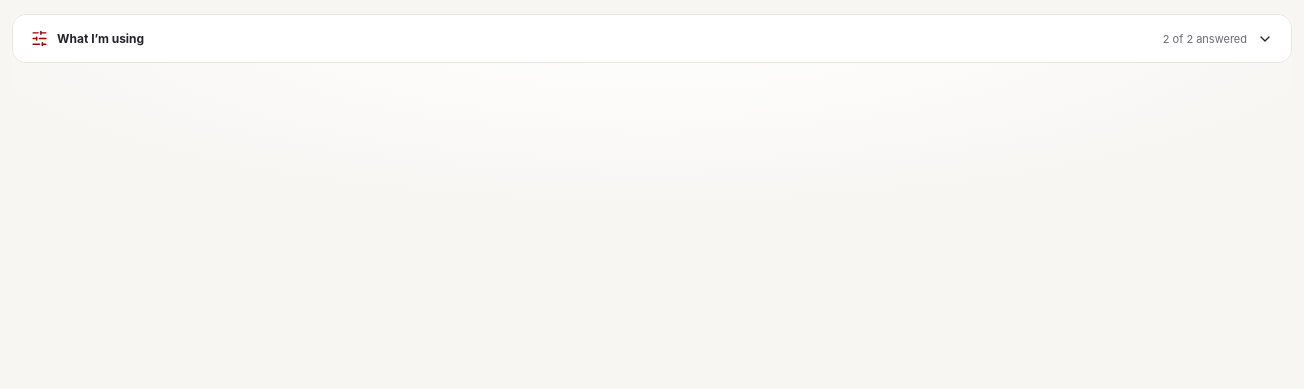
Test case: information editor › starts collapsed and exposes the four answer choices on request
This screenshot has width=1304, height=389.
Click the button "What I’m using 2 of 2 answered" at coordinates (101, 38), box [13, 15, 1291, 62]
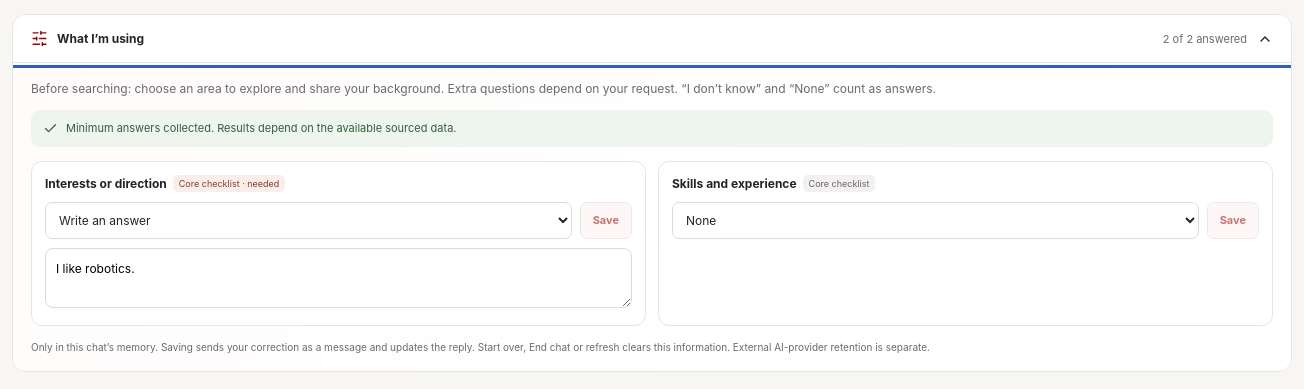
Now the button "What I’m using 2 of 2 answered" is expanded, box [13, 15, 1291, 62]
Now the dropdown labelled "Interests or direction" shows "Write an answer", box [45, 202, 572, 239]
Now the text box named "Interests or direction answer" holds "I like robotics."
Type " And music." into the text box named "Interests or direction answer" at coordinates (338, 278), box [45, 248, 632, 308]
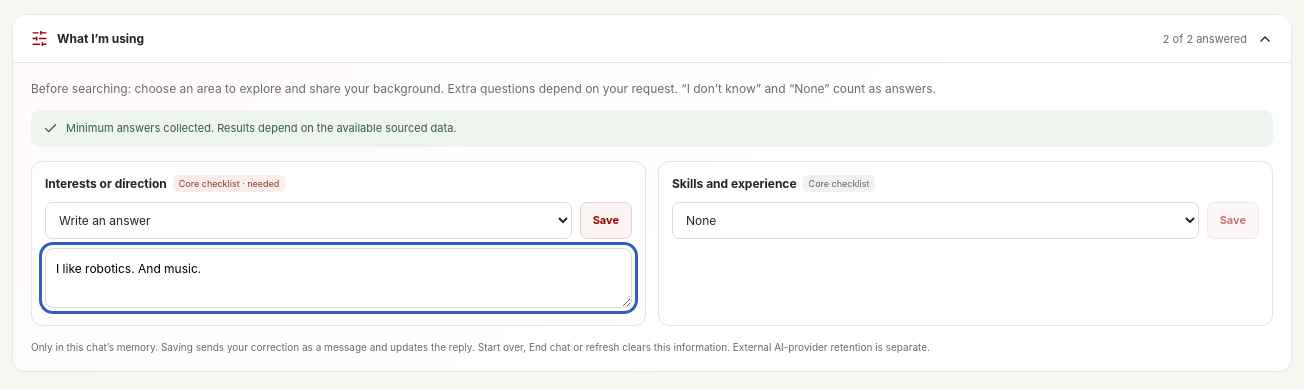
Click the button "What I’m using 2 of 2 answered" at coordinates (101, 38), box [13, 15, 1291, 62]
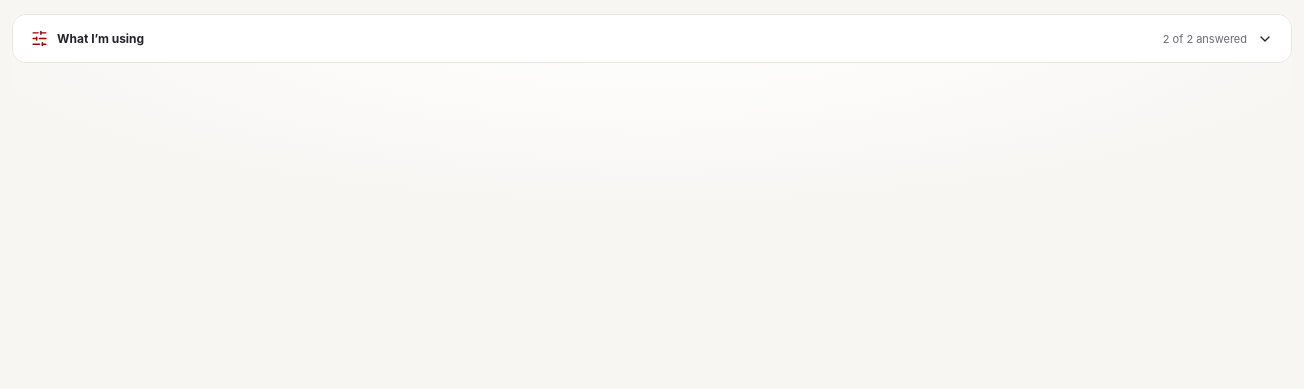
Now the dropdown is gone
Click the button "What I’m using 2 of 2 answered" at coordinates (101, 38), box [13, 15, 1291, 62]
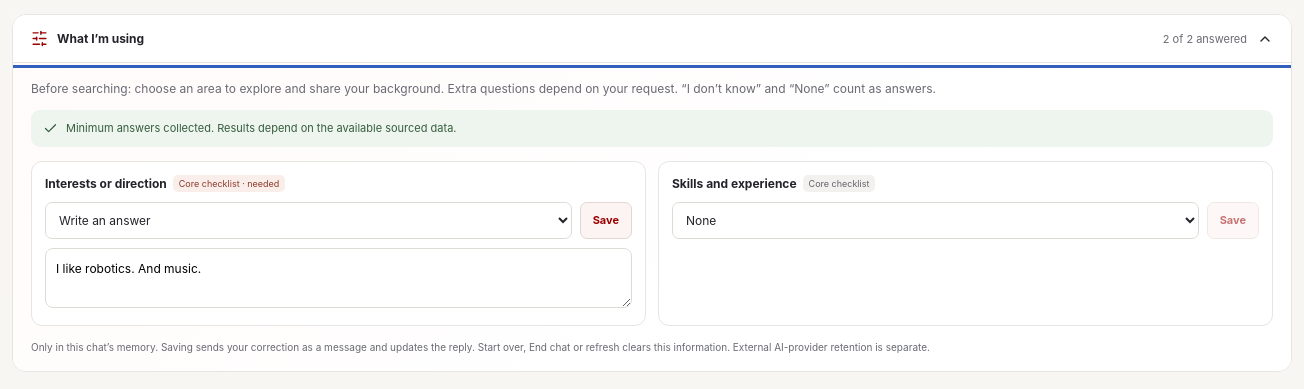
Now the text box named "Interests or direction answer" holds "I like robotics. And music.", box [45, 248, 632, 308]
